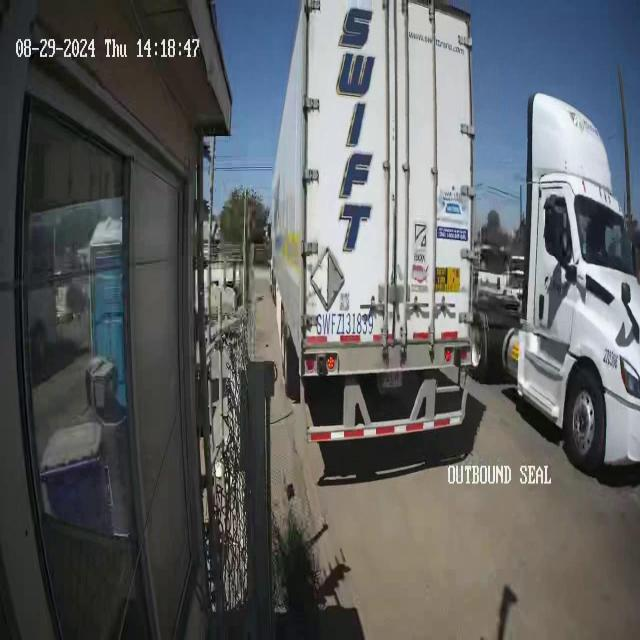CONTAINER: (268, 0, 480, 383)
